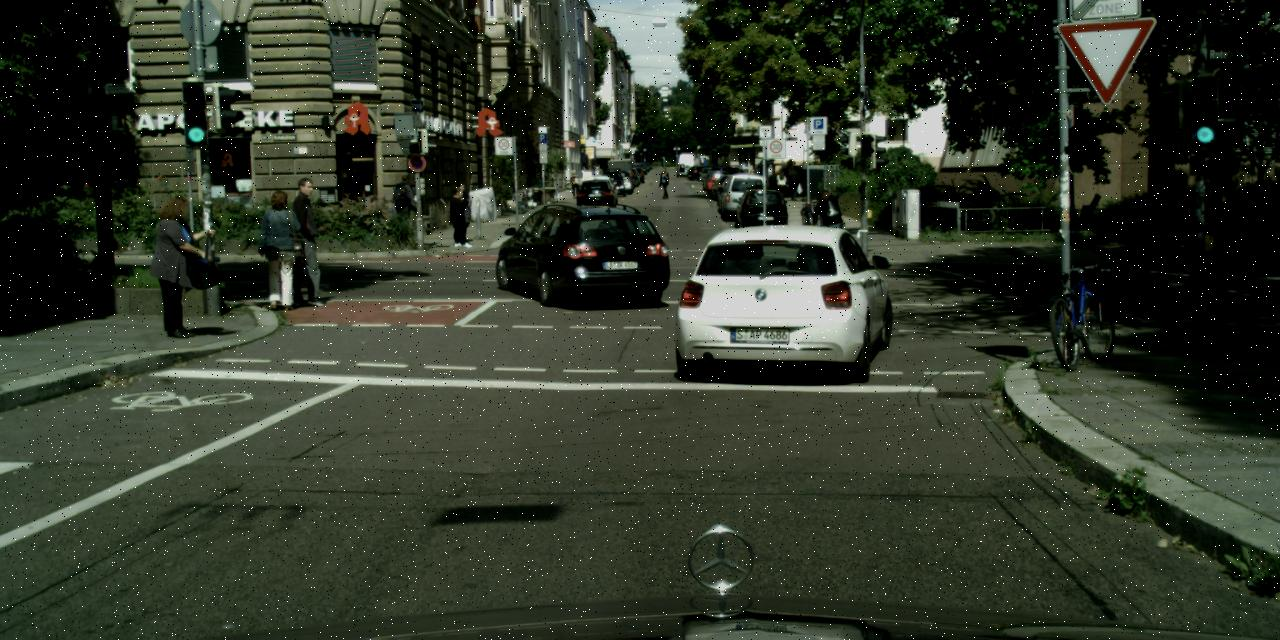ped: (150, 194, 208, 336), (278, 176, 330, 304), (255, 189, 304, 309), (390, 174, 416, 237), (818, 190, 843, 252), (786, 166, 800, 199), (658, 166, 671, 199), (776, 170, 788, 200), (569, 170, 579, 197), (448, 190, 452, 222), (469, 193, 473, 202), (463, 183, 466, 188), (456, 183, 459, 184), (473, 244, 473, 247)
